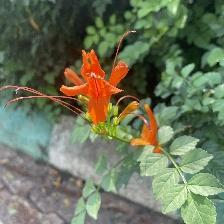honeysuckle: (60, 47, 130, 127)
